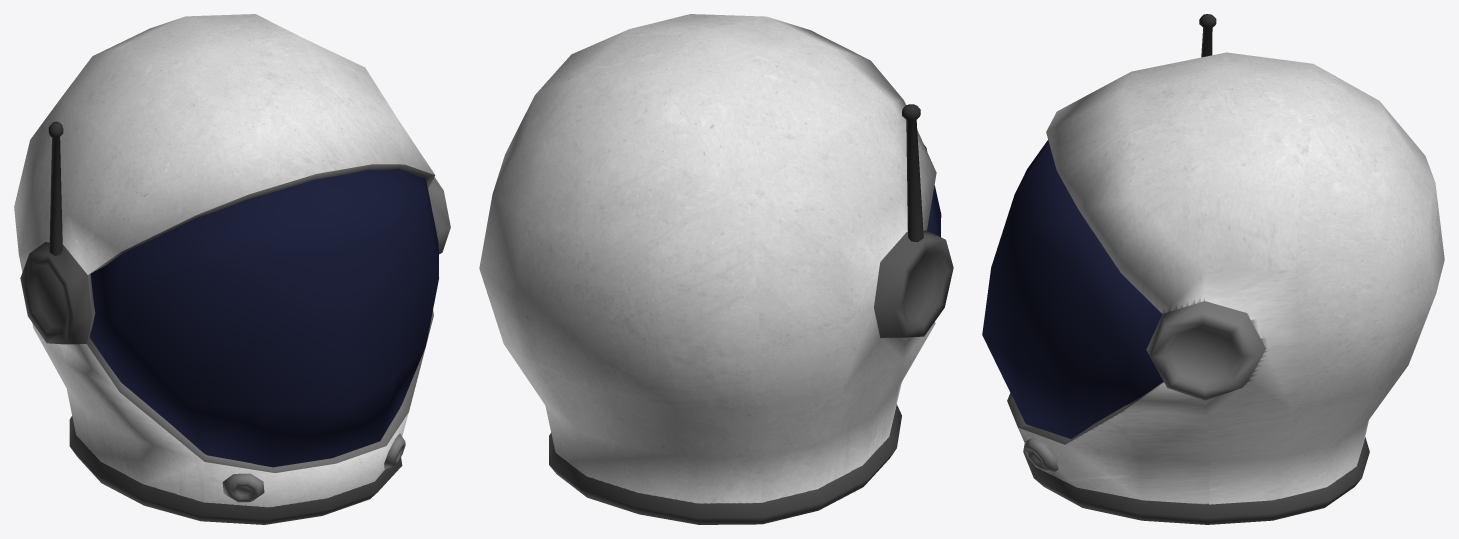
Rendered from astronaut_helmet.fbx.
3 renders of one model, left to right at view 1: azimuth 30°, elevation 25°; view 2: azimuth 150°, elevation 25°; view 3: azimuth 270°, elevation 25°, orthographic. The views are drawn at different scales.
Visible parts, largest first — view 1: astronaut_helmet; view 2: astronaut_helmet; view 3: astronaut_helmet.
Boxes of the visible parts, box(x1,y1,x2,y2) form: astronaut_helmet: box(14, 14, 450, 524); astronaut_helmet: box(479, 14, 953, 524); astronaut_helmet: box(982, 14, 1444, 524).
Bounding box in the file's own units: 39.76 × 40.68 × 43.24.
